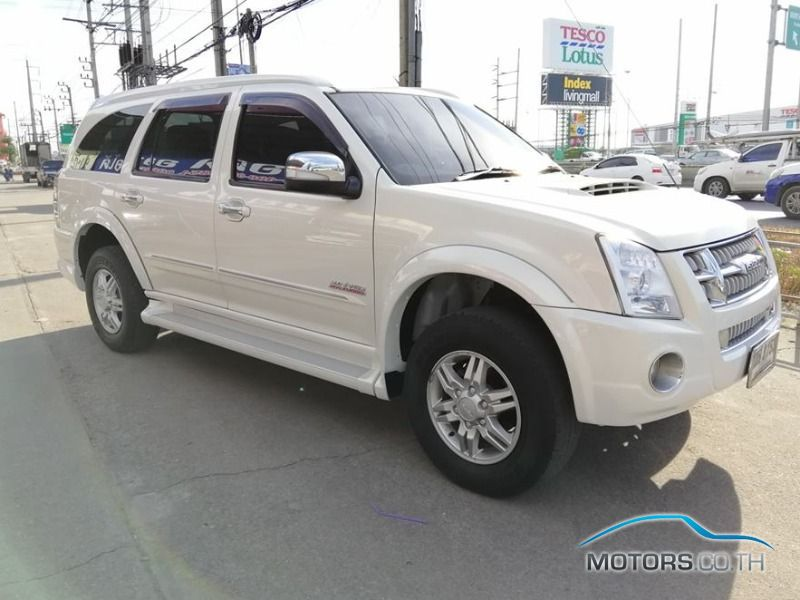pickup: (52, 71, 784, 501)
